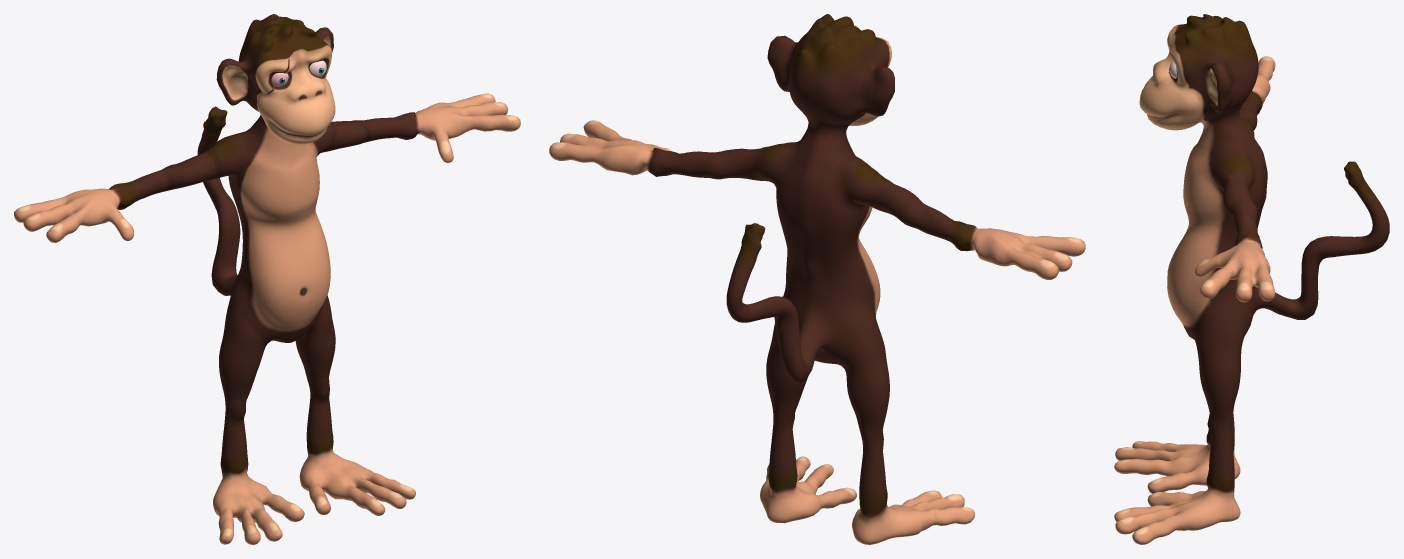
Rendered from MonkeyLowPoly.fbx.
3 views of the same model, side by side, from view 1: azimuth 30°, elevation 25°; view 2: azimuth 150°, elevation 25°; view 3: azimuth 270°, elevation 25° (orthographic). The views are drawn at different scales.
Visible parts, largest first — view 1: Cabeza; view 2: Cabeza; view 3: Cabeza.
Boxes of the visible parts, <box> form: Cabeza: <box>14,14,520,544</box>; Cabeza: <box>549,14,1085,544</box>; Cabeza: <box>1114,14,1389,544</box>.
Bounding box in the file's own units: 5.18 × 4.91 × 2.54.
